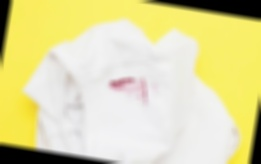lipstick: (106, 70, 151, 107)
